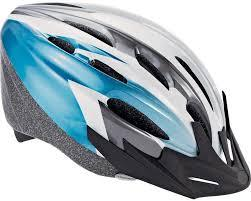helmet: (1, 3, 250, 198)
